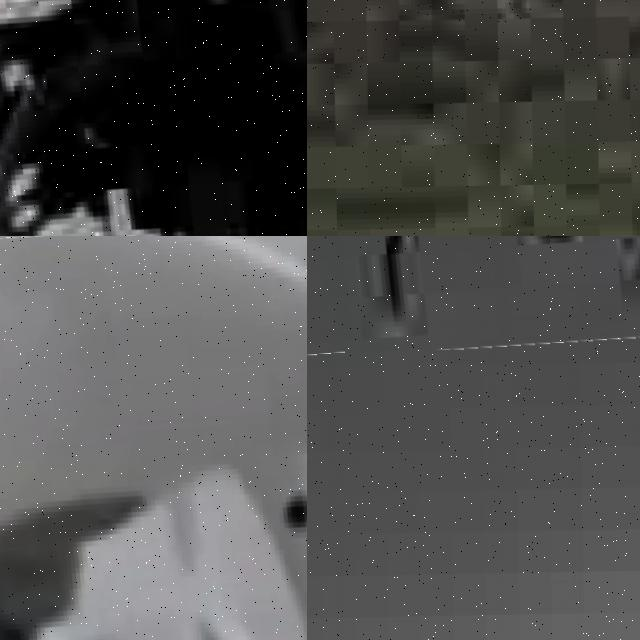0: (0, 0, 307, 236), (307, 236, 640, 354)
drone: (0, 236, 307, 640)
